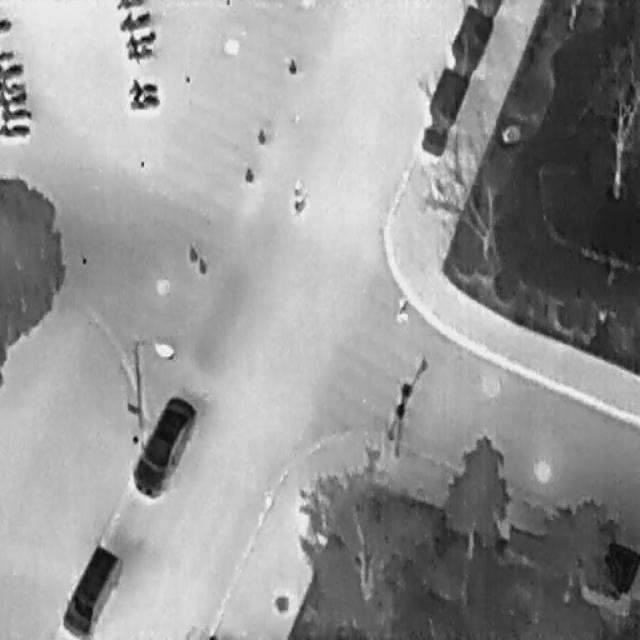Bicycle: (115, 5, 154, 31), (121, 24, 157, 50), (125, 71, 159, 94), (127, 89, 160, 111), (124, 40, 155, 62), (0, 104, 32, 121), (0, 121, 32, 138), (0, 59, 24, 80), (0, 90, 28, 106), (0, 78, 25, 94), (114, 0, 145, 9), (0, 16, 13, 32), (0, 48, 16, 60)
Car: (124, 383, 202, 508), (58, 536, 127, 638)
Person: (396, 295, 408, 321), (294, 195, 305, 214), (294, 176, 303, 198)
